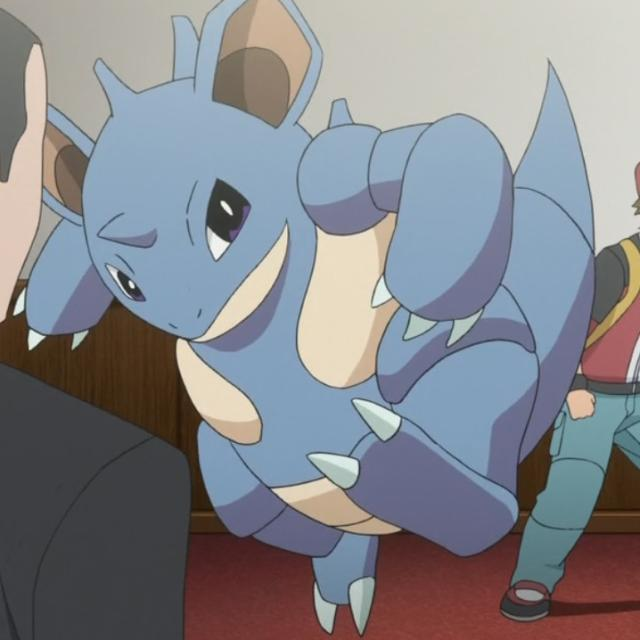Nidoqueen: (65, 61, 527, 553)
